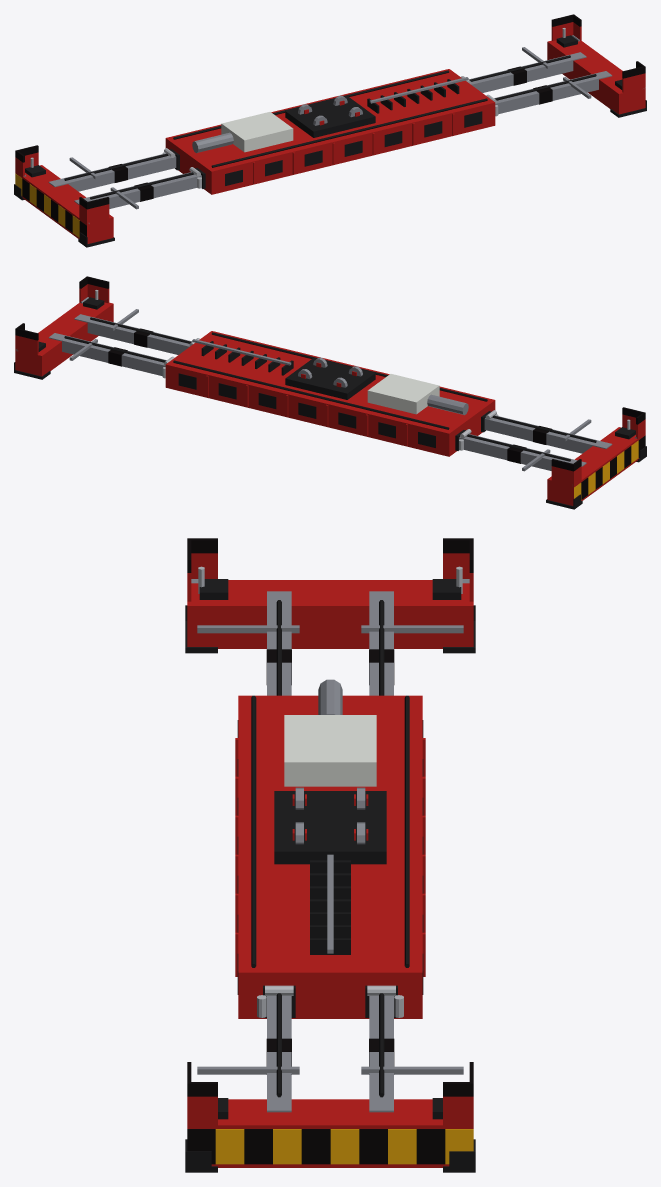
The model's file is hero-spreader-shc.glb.
3 renders of one model, top to bottom at view 1: azimuth 30°, elevation 25°; view 2: azimuth 150°, elevation 25°; view 3: azimuth 270°, elevation 25°, orthographic. The views are drawn at different scales.
Visible parts, largest first — view 1: spreader_geo; view 2: spreader_geo; view 3: spreader_geo.
Boxes of the visible parts, x1=… form: spreader_geo: x1=14, y1=14, x2=646, y2=247; spreader_geo: x1=14, y1=276, x2=646, y2=509; spreader_geo: x1=185, y1=538, x2=475, y2=1172.
Bounding box in the file's own units: 12.64 × 1.08 × 2.84.
1 material, 1 textured.
